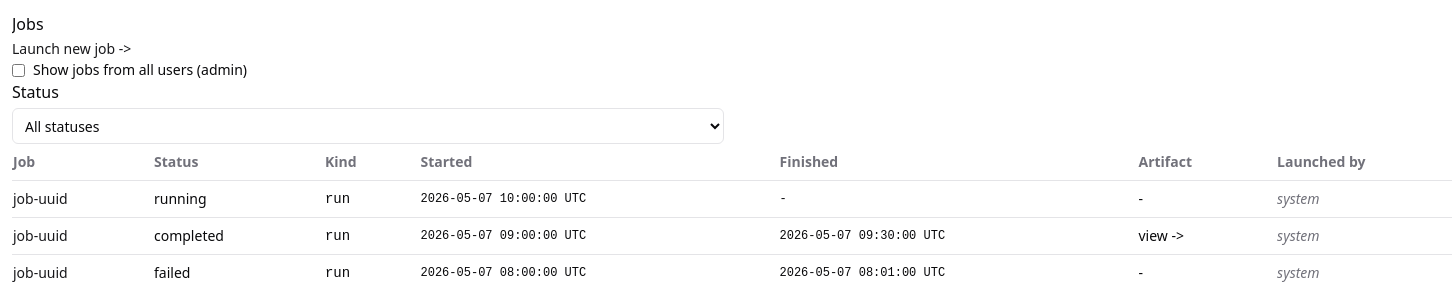
JobsPage › filters by status when the dropdown changes
Expected: the table with test id "jobs-table" is shown, [12,144,1451,291]
Select "running" in the dropdown labelled "Status": point(368, 126) [12,108,724,144]
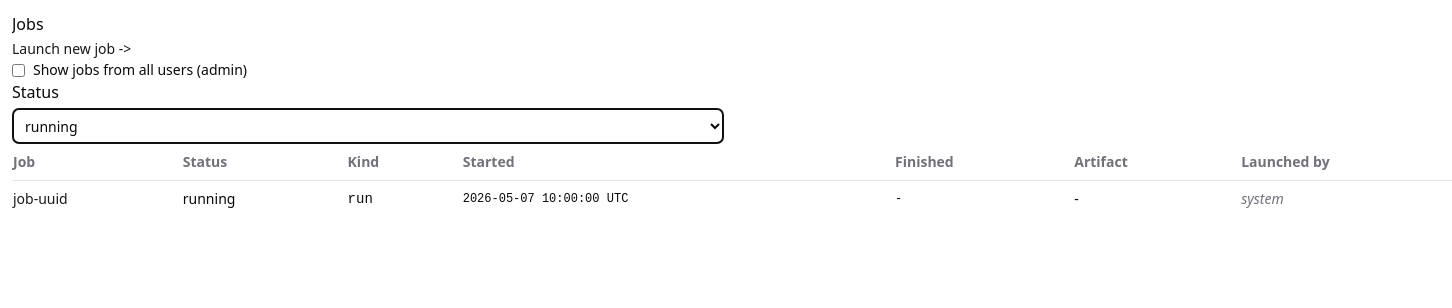
Expected: the text with test id "job-status-pill" reads "running", [183,189,235,208]
Expected: the number of elements with test id "job-status-pill" is 1, [183,189,235,208]
